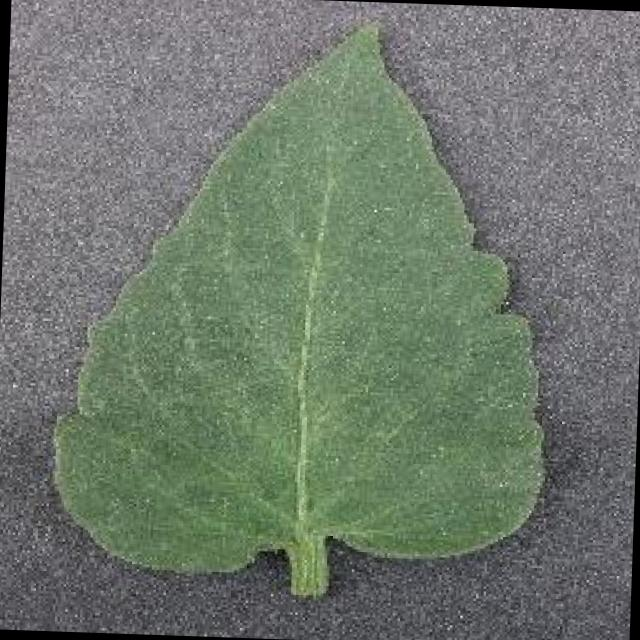Tomato_Healthy: (32, 11, 581, 582)
